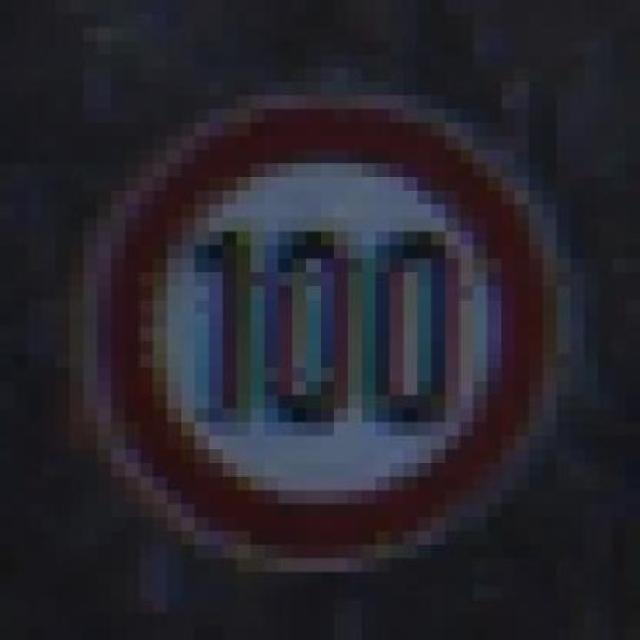forb_speed_over_100: (94, 102, 549, 563)
